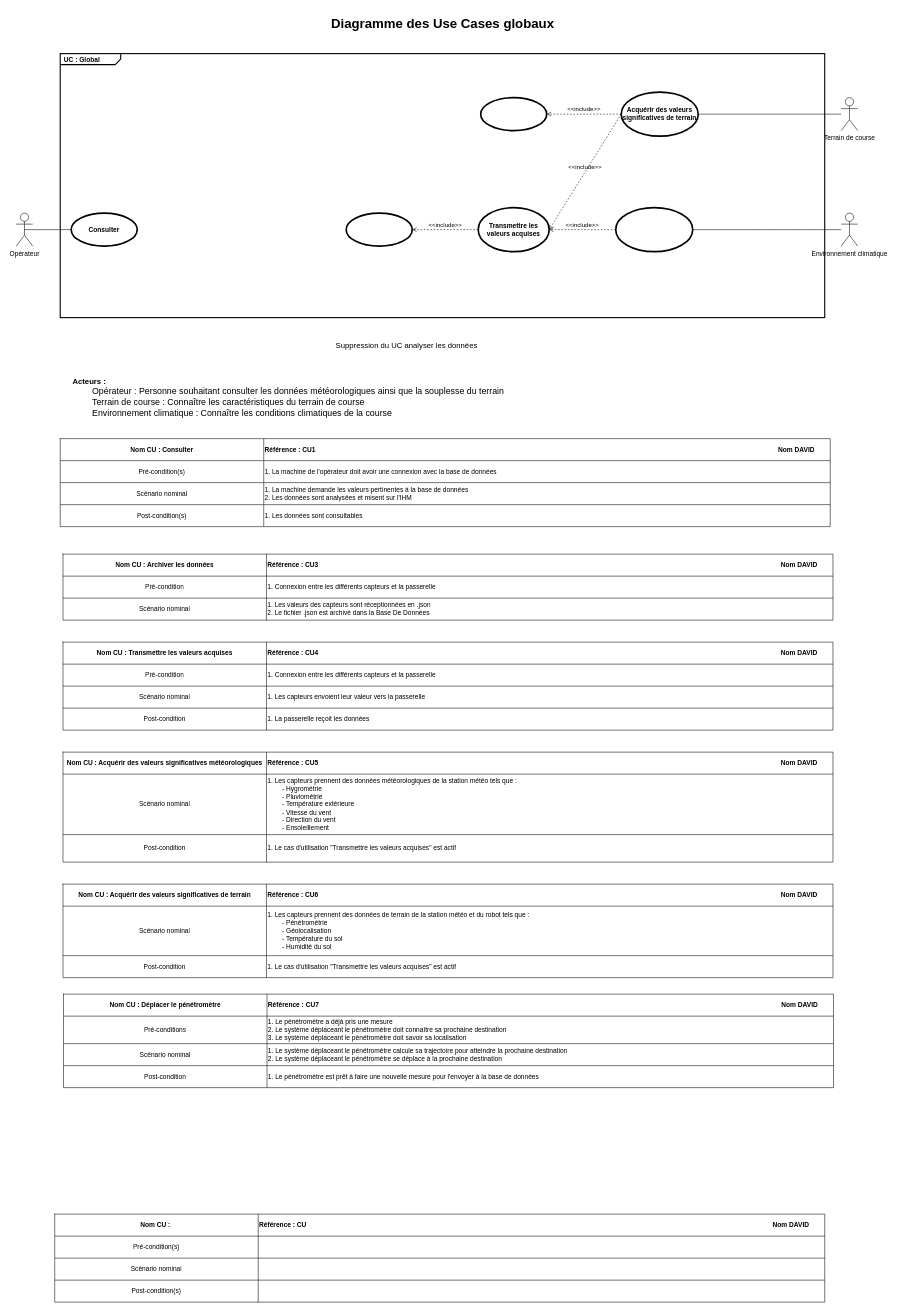
Image size: 897x1312. Some labels were removed from this diagram. The shapes that lost their labels are listed below. From the top down, each one's centre as x and y in pixels, then its label:
At (x=513, y=114): "Déplacer le pénètromètre".
At (x=379, y=229): "Archiver les données".
At (x=654, y=229): "Acquérir des valeurs significatives météorologiques".
